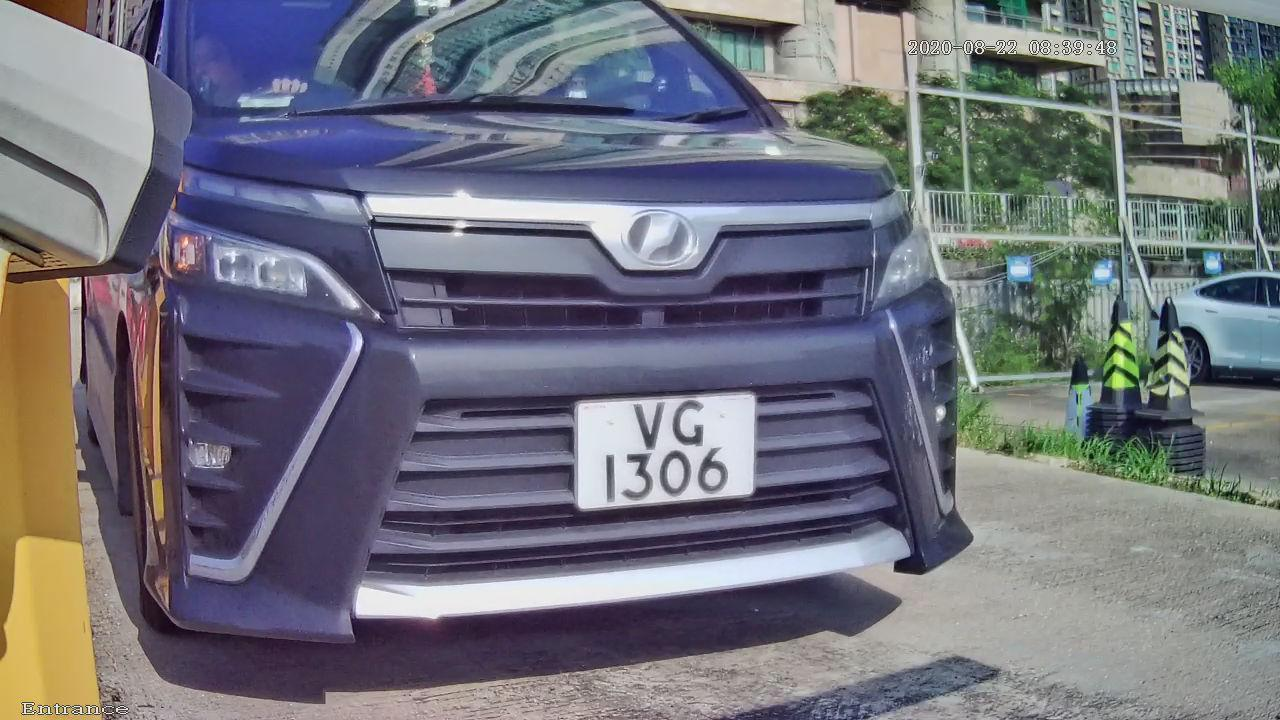Car: (75, 7, 1041, 708)
License Plate: (555, 373, 772, 531)
